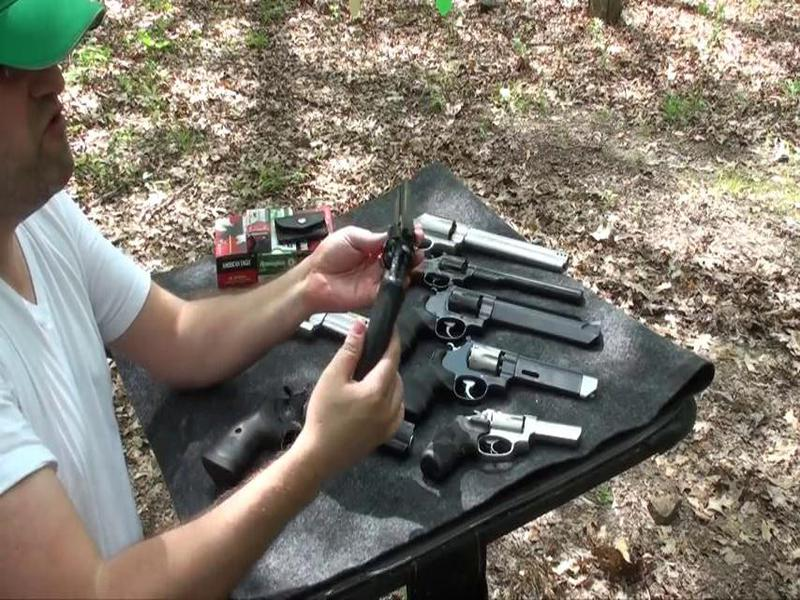Revolver: (333, 166, 437, 394)
